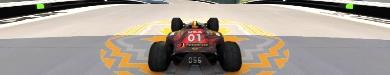Car: (147, 17, 241, 72)
Solid White and black: (99, 17, 289, 74)
curve: (0, 0, 389, 74)
obstacles-Borders: (243, 0, 389, 22), (0, 0, 146, 20)
